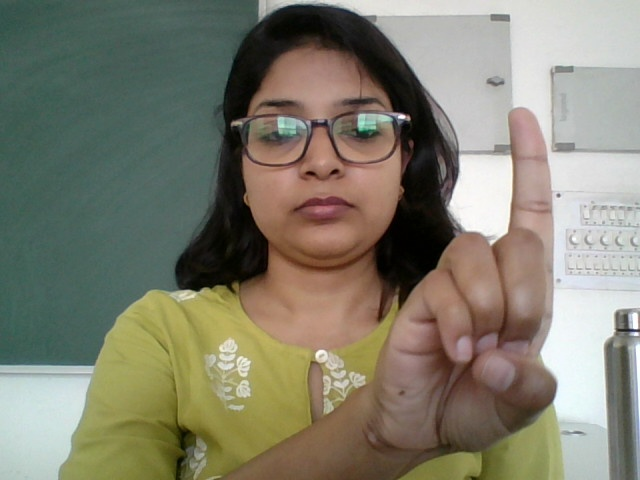D: (381, 104, 560, 449)
